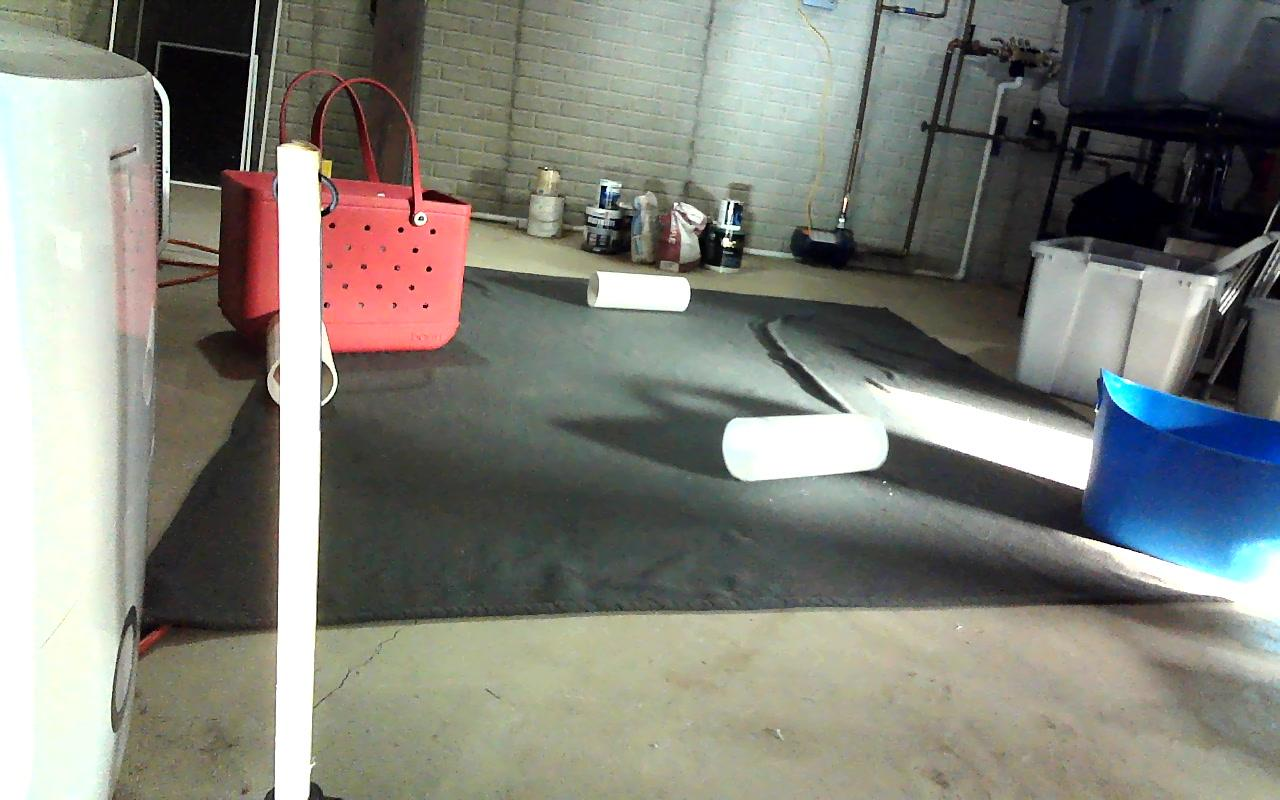coral: (723, 411, 887, 482), (266, 311, 335, 407), (588, 270, 689, 313)
